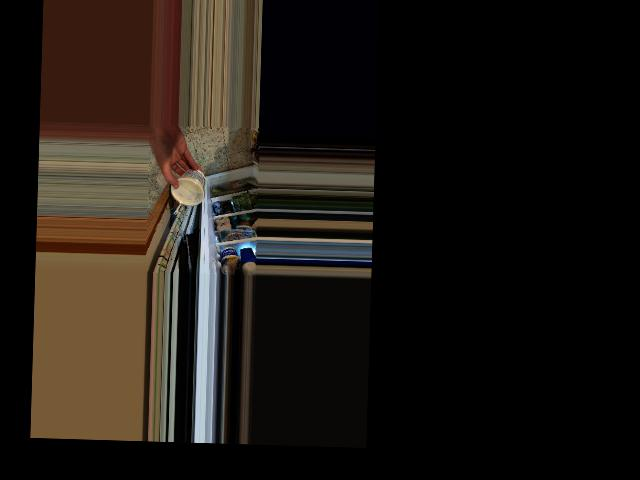cotage: (173, 170, 203, 206)
